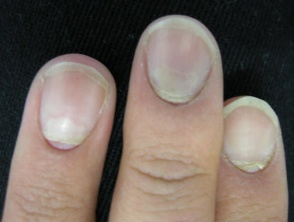SJS-TEN: (102, 0, 262, 146), (24, 53, 118, 174), (217, 86, 284, 191)
